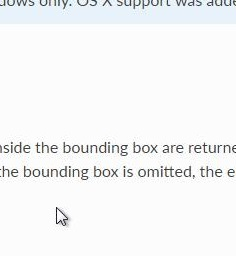cursor: (53, 205, 69, 228)
